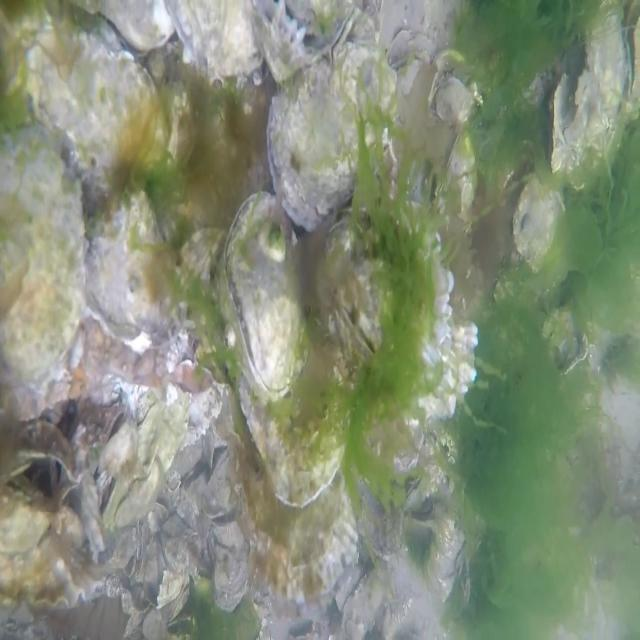Oyster-Closed: (0, 136, 87, 419), (267, 46, 395, 230), (28, 20, 168, 178), (222, 191, 304, 395), (86, 185, 186, 344), (256, 2, 350, 84), (509, 177, 558, 271), (433, 130, 477, 220), (402, 471, 428, 509)
Oyster-Indeterminate: (315, 217, 479, 423), (233, 396, 360, 603), (236, 312, 360, 511), (550, 0, 624, 174), (101, 403, 187, 535), (0, 528, 105, 610), (161, 0, 268, 79), (0, 478, 65, 555), (357, 474, 405, 560), (340, 569, 386, 640), (213, 522, 248, 612), (434, 50, 475, 124), (200, 448, 240, 518)
Oyster-Open: (0, 420, 81, 504), (390, 47, 426, 101), (624, 0, 640, 112), (405, 499, 437, 530)
